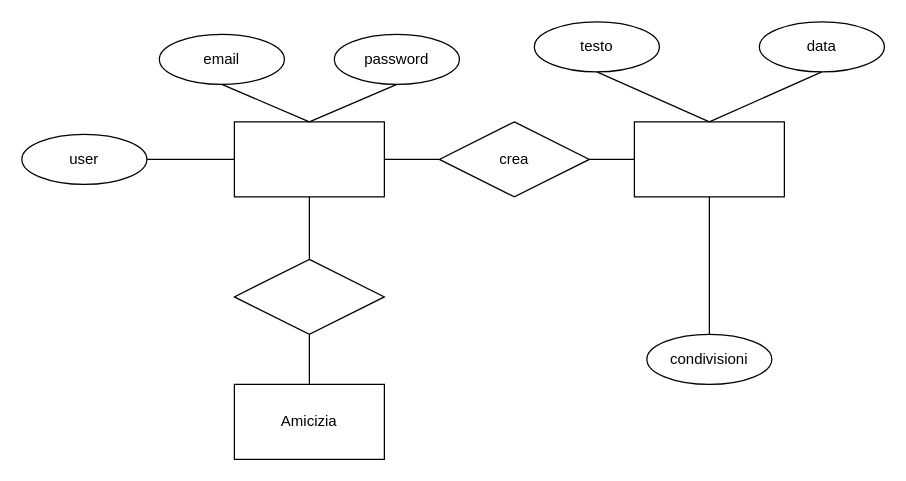
The diagram is 906 pixels wide and 481 high, and some of its shapes have lost their labels. Each missing label, with the centre of its shape:
possiede: (308,296)
Post: (708,159)
Utente: (308,159)
